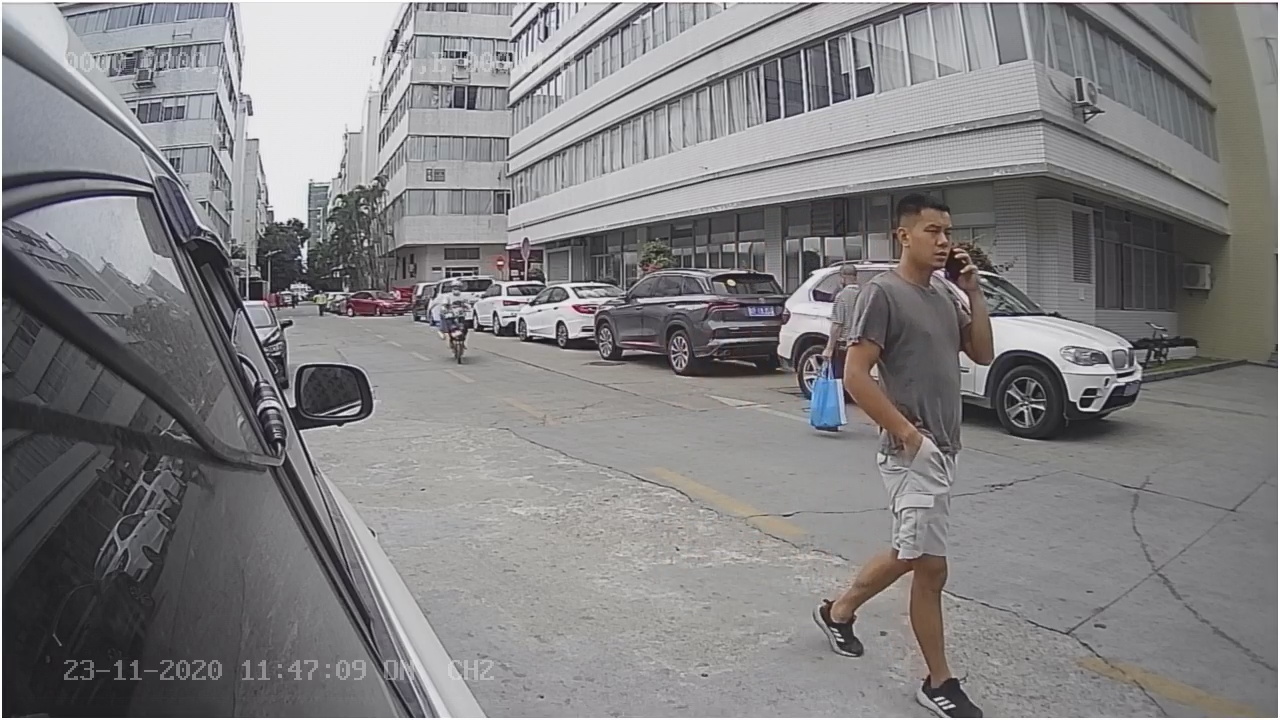person: (810, 197, 1013, 720)
